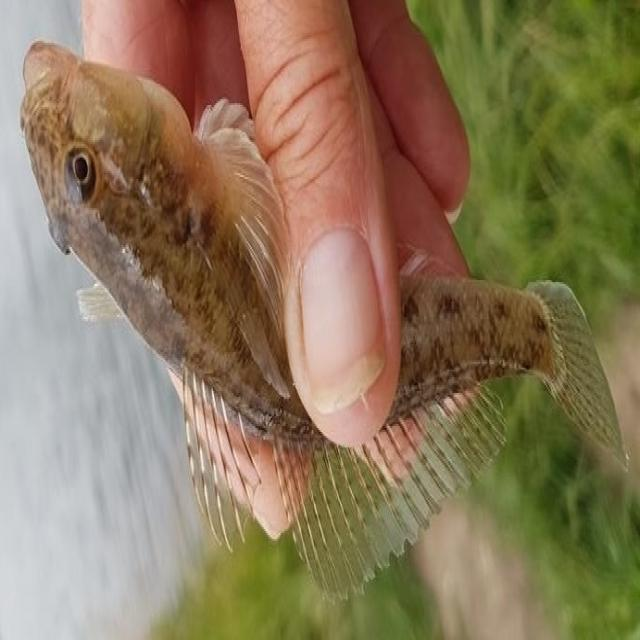Goby: (6, 14, 636, 550)
